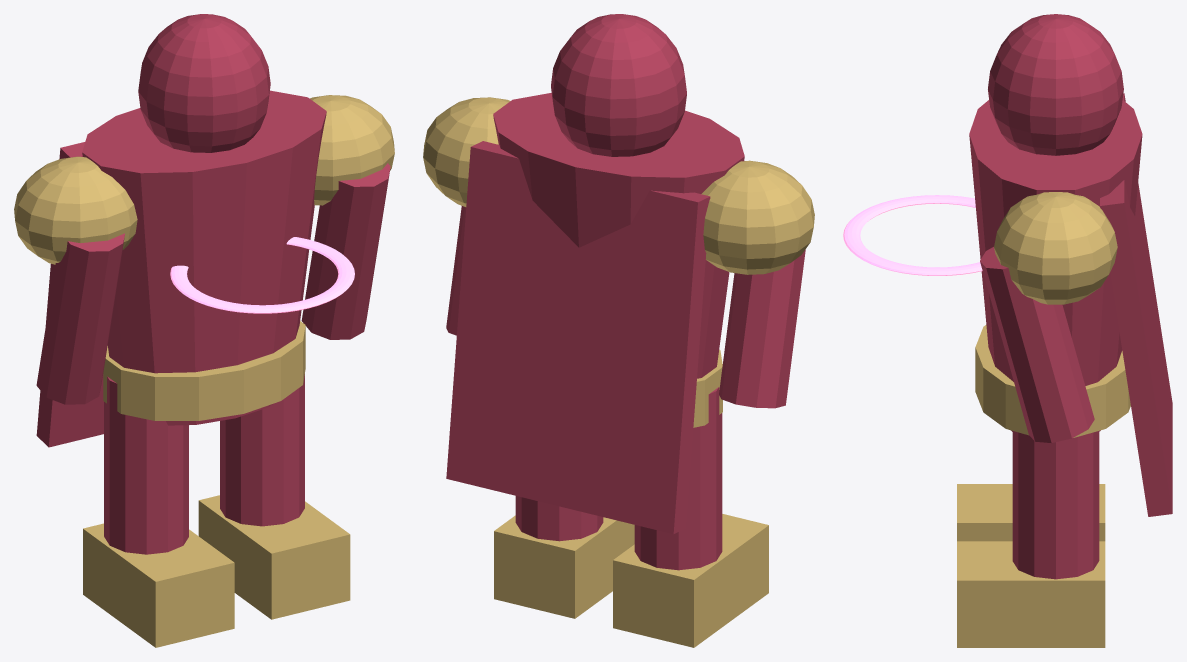
Rendered from enemy_cultist_archer.glb.
3 renders of one model, left to right at view 1: azimuth 30°, elevation 25°; view 2: azimuth 150°, elevation 25°; view 3: azimuth 270°, elevation 25°, orthographic. The views are drawn at different scales.
Parts seen in each view (by area): view 1: Cone, Sphere.002, Cube, Cube.001, Cylinder, Cylinder.003, Cylinder.002, Cylinder.001, Sphere, Cylinder.004, Sphere.001, Cube.002 (+1 smaller); view 2: Cube.002, Cone, Sphere.002, Cube, Sphere, Cube.001, Cylinder.003, Cylinder, Sphere.001, Cylinder.001, Cylinder.004, Cylinder.002; view 3: Cone, Sphere.002, Cube.001, Cube.002, Cylinder.001, Cylinder.004, Sphere.001, Cylinder.002, Cube, Torus.
Boxes of the visible parts, box(x1,y1,x2,y2) form: Cone: box(82, 90, 326, 425); Sphere.002: box(138, 14, 270, 152); Cube: box(83, 523, 234, 647); Cube.001: box(198, 495, 350, 619); Cylinder: box(104, 376, 188, 554); Cylinder.003: box(36, 233, 124, 404); Cylinder.002: box(103, 321, 305, 420); Cylinder.001: box(220, 374, 304, 526); Sphere: box(14, 156, 137, 264); Cylinder.004: box(301, 163, 390, 339); Sphere.001: box(310, 95, 394, 205); Cube.002: box(36, 142, 103, 447); Cube.002: box(446, 141, 710, 534); Cone: box(493, 93, 744, 378); Sphere.002: box(551, 14, 686, 156); Cube: box(613, 514, 768, 647); Sphere: box(701, 160, 814, 274); Cube.001: box(494, 515, 634, 618); Cylinder.003: box(719, 249, 805, 408); Cylinder: box(634, 387, 722, 570); Sphere.001: box(423, 97, 510, 206); Cylinder.001: box(515, 496, 603, 541); Cylinder.004: box(446, 206, 466, 335); Cylinder.002: box(693, 350, 722, 427); Cone: box(969, 100, 1142, 431); Sphere.002: box(988, 14, 1123, 155); Cube.001: box(957, 541, 1105, 647); Cube.002: box(1100, 93, 1172, 516); Cylinder.001: box(1012, 431, 1099, 579); Cylinder.004: box(980, 247, 1094, 442); Sphere.001: box(994, 192, 1117, 304); Cylinder.002: box(975, 325, 1130, 437); Cube: box(957, 484, 1105, 541); Torus: box(843, 195, 982, 275).
Size of the model in its own units: 1.31 by 1.95 by 1.
